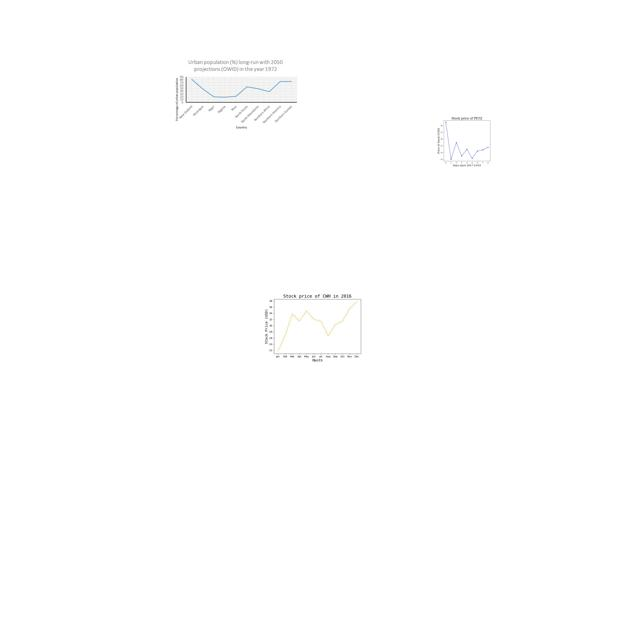Graph: (260, 284, 372, 368), (173, 58, 299, 130), (431, 114, 501, 167)
